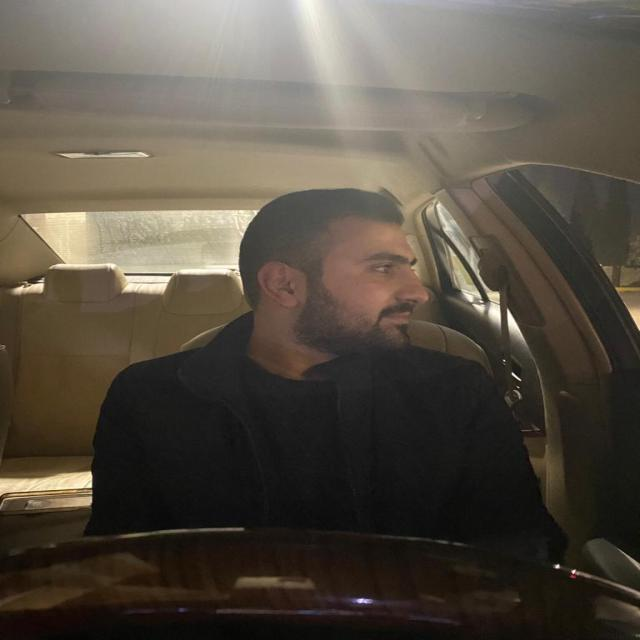LeftRight: (234, 188, 434, 357)
